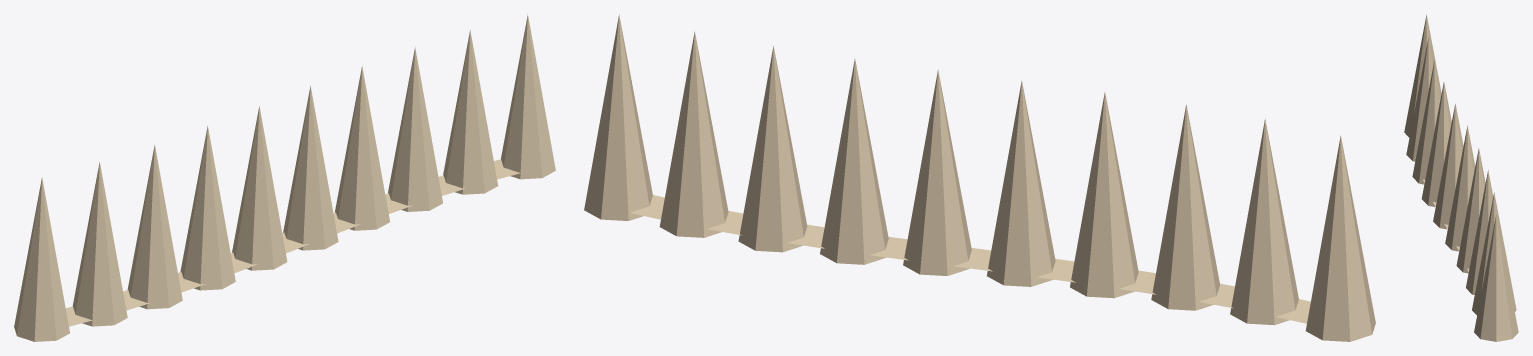
File: teeth_strip_lower.glb
3 renders of one model, left to right at view 1: azimuth 30°, elevation 25°; view 2: azimuth 150°, elevation 25°; view 3: azimuth 270°, elevation 25°, orthographic. The views are drawn at different scales.
Parts seen in each view (by area): view 1: teeth_strip_lower; view 2: teeth_strip_lower; view 3: teeth_strip_lower.
Boxes of the visible parts, x1,y1,x2,y2 form: teeth_strip_lower: (14, 14, 555, 341); teeth_strip_lower: (584, 14, 1375, 341); teeth_strip_lower: (1404, 15, 1518, 341).
Size of the model in its own units: 0.416 by 0.105 by 0.092.
